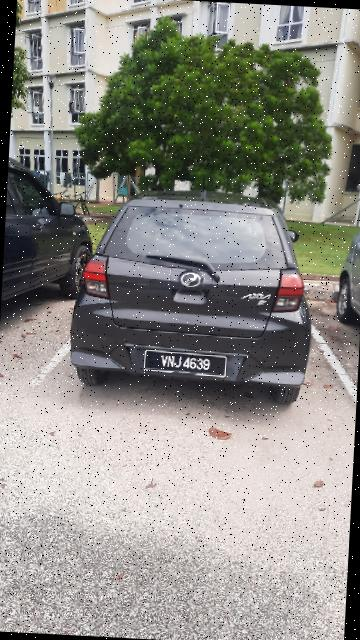License_Plate: (143, 347, 237, 382)
car: (66, 184, 320, 416)
